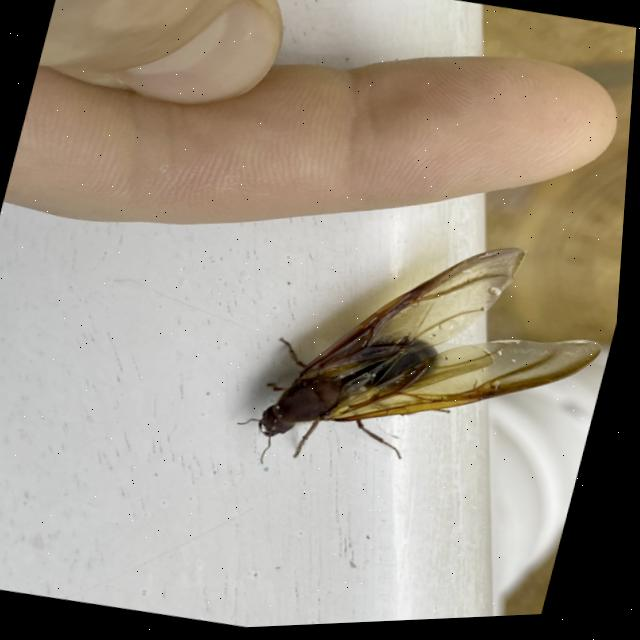Alive-Female-Alate: (229, 204, 628, 528)
